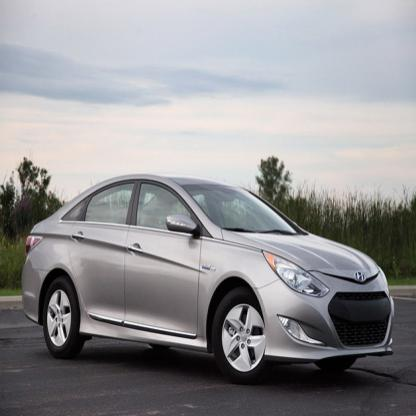car: (20, 174, 396, 378)
